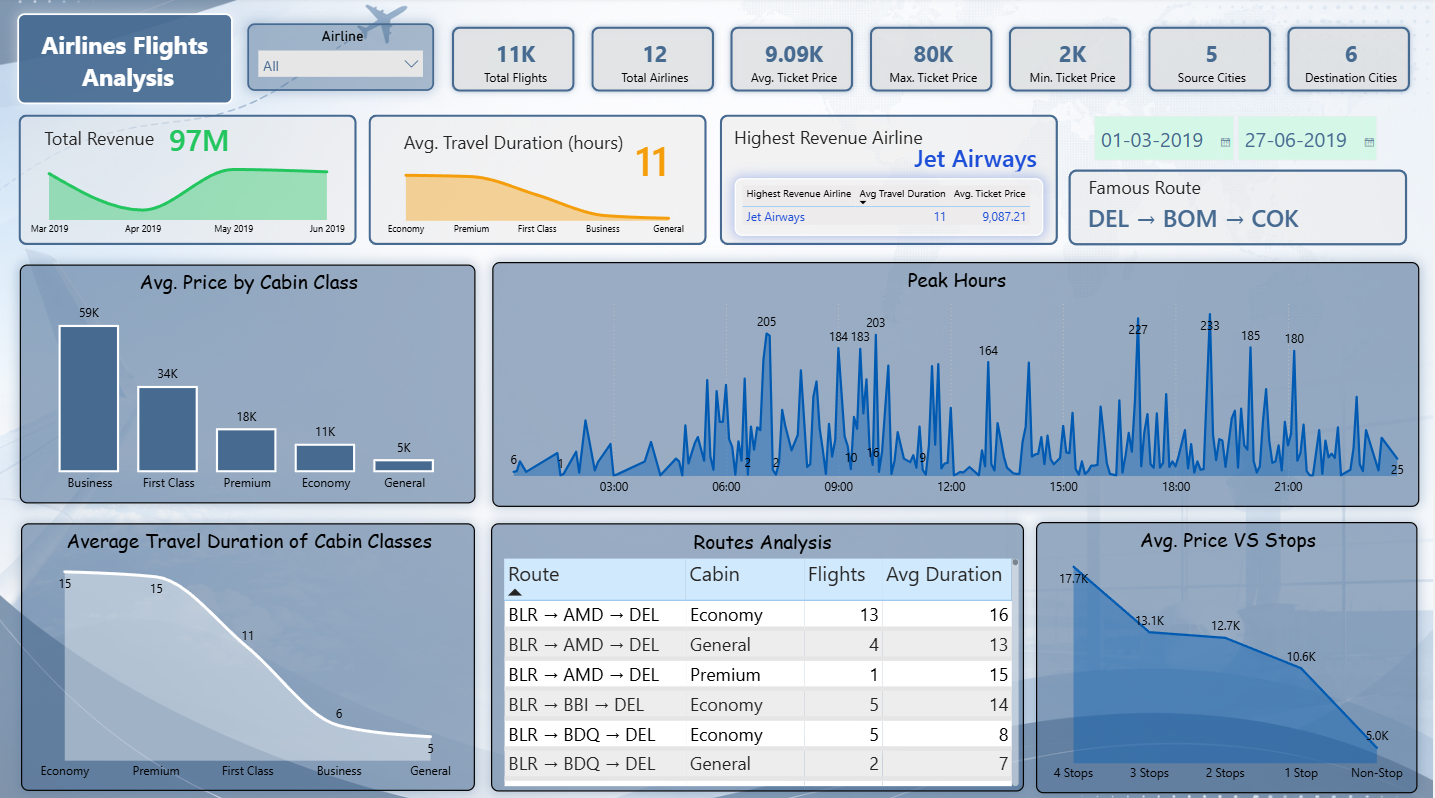

The page's visual inventory and layout, read from the dashboard file:
{"tool":"powerbi","page":{"name":"Dashboard","canvas":[1920,1080],"ordinal":0},"visuals":[{"type":"textbox","box":[29,21.7,288,121.4],"z":0},{"type":"slicer","title":"Airline ","fields":{"Values":["Sheet1.Airline"]},"box":[335.1,34.4,250,90.6],"z":1000},{"type":"clusteredColumnChart","title":"Avg. Price by Cabin Class","fields":{"Category":["Sheet1.Cabin Class"],"Y":["Avg(Sheet1.Ticket Price)"]},"box":[31.4,357.6,608.7,319.2],"z":2000},{"type":"cardVisual","fields":{"Data":["Measure.Total Flights","Measure.Total Airlines","Measure.Avg. Ticket Price","Measure.Max. Ticket Price","Measure.Min. Ticket Price","Measure.Total Source Cities","Measure.Total Destination Cities"]},"box":[580.4,12.2,1339.5,143],"z":3000},{"type":"lineChart","title":"Peak Hours","fields":{"Category":["Sheet1.Dep_Time"],"Y":["Measure.Total Flights"]},"box":[662.9,354,1238.3,327.3],"z":4000},{"type":"lineChart","title":"Average Travel Duration of Cabin Classes","fields":{"Y":["Measure.Avg Travel Duration"],"Category":["Sheet1.Cabin Class"]},"box":[33.1,702.9,606.3,357.6],"z":5000},{"type":"shape","box":[29.7,157,451.7,174.4],"z":6000},{"type":"shape","box":[498.1,157,451.7,174.4],"z":7000},{"type":"textbox","box":[35.5,167.3,205.5,54.5],"z":8000},{"type":"shape","box":[966.6,157,451.7,174.4],"z":9000},{"type":"lineChart","title":"Average Duration Time of Cabin Class","fields":{"Category":["Sheet1.Date_of_Journey.Variation.Date Hierarchy.Year","Sheet1.Date_of_Journey.Variation.Date Hierarchy.Month"],"Y":["Measure.Total Revenue"]},"box":[40,199.4,431.1,129.4],"z":10000},{"type":"shape","box":[1433.3,229.8,452.4,101.3],"z":11000},{"type":"textbox","box":[537.1,171.8,314,47.6],"z":12000},{"type":"textbox","box":[962.8,165.7,296.5,78.5],"z":13000},{"type":"textbox","box":[1439.3,232.7,190.1,89],"z":14000},{"type":"cardVisual","fields":{"Data":["Measure.Total Revenue"]},"box":[202.3,151.7,155.2,73.3],"z":15000},{"type":"lineChart","title":"Average Duration Time of Cabin Class","fields":{"Y":["Measure.Avg Travel Duration"],"Category":["Sheet1.Cabin Class"]},"box":[507.2,199.4,431.1,129.4],"z":16000},{"type":"cardVisual","fields":{"Data":["Measure.Avg Travel Duration"]},"box":[825,164,136,102.9],"z":17000},{"type":"tableEx","title":"Average Duration Time of Cabin Class","fields":{"Values":["Measure.Highest Revenue Airline","Measure.Avg Travel Duration","Measure.Avg. Ticket Price"]},"box":[987.2,242.4,411.6,76.7],"z":18000},{"type":"cardVisual","fields":{"Data":["Measure.Highest Revenue Airline"]},"box":[983.4,176.2,436.4,73.3],"z":19000},{"type":"cardVisual","fields":{"Data":["Measure.Famous Route"]},"box":[1429.6,257,437.9,70.6],"z":20000},{"type":"slicer","fields":{"Values":["Sheet1.Date_of_Journey"]},"box":[1455,148.4,398.1,81.4],"z":21000},{"type":"tableEx","title":"Routes Analysis","fields":{"Values":["Sheet1.Route","Dataset.Cabin Class","Measure.Total Flights","Measure.Avg Travel Duration"]},"box":[660.5,702.1,712.3,358.3],"z":22000},{"type":"lineChart","title":"Avg. Price VS Stops","fields":{"Category":["Sheet1.Total Stops"],"Y":["Measure.Avg. Ticket Price"]},"box":[1389.2,701,509.3,362.7],"z":23000}]}

Visuals, with their boxes in screenshot pixels (x1, y1, x2, y2), scaled from the page's 1920x1080 canvas onto the 1435x798 screenshot:
textbox: x1=22, y1=16, x2=237, y2=106
"Airline " slicer: x1=250, y1=25, x2=437, y2=92
"Avg. Price by Cabin Class" clusteredColumnChart: x1=23, y1=264, x2=478, y2=500
cardVisual - Measure.Total Flights x Measure.Total Airlines: x1=434, y1=9, x2=1434, y2=115
"Peak Hours" lineChart: x1=495, y1=262, x2=1421, y2=503
"Average Travel Duration of Cabin Classes" lineChart: x1=25, y1=519, x2=478, y2=784
shape: x1=22, y1=116, x2=360, y2=245
shape: x1=372, y1=116, x2=710, y2=245
textbox: x1=27, y1=124, x2=180, y2=164
shape: x1=722, y1=116, x2=1060, y2=245
"Average Duration Time of Cabin Class" lineChart: x1=30, y1=147, x2=352, y2=243
shape: x1=1071, y1=170, x2=1409, y2=245
textbox: x1=401, y1=127, x2=636, y2=162
textbox: x1=720, y1=122, x2=941, y2=180
textbox: x1=1076, y1=172, x2=1218, y2=238
cardVisual - Measure.Total Revenue: x1=151, y1=112, x2=267, y2=166
"Average Duration Time of Cabin Class" lineChart: x1=379, y1=147, x2=701, y2=243
cardVisual - Measure.Avg Travel Duration: x1=617, y1=121, x2=718, y2=197
"Average Duration Time of Cabin Class" tableEx: x1=738, y1=179, x2=1045, y2=236
cardVisual - Measure.Highest Revenue Airline: x1=735, y1=130, x2=1061, y2=184
cardVisual - Measure.Famous Route: x1=1068, y1=190, x2=1396, y2=242
slicer - Sheet1.Date_of_Journey: x1=1087, y1=110, x2=1385, y2=170
"Routes Analysis" tableEx: x1=494, y1=519, x2=1026, y2=784
"Avg. Price VS Stops" lineChart: x1=1038, y1=518, x2=1419, y2=786
